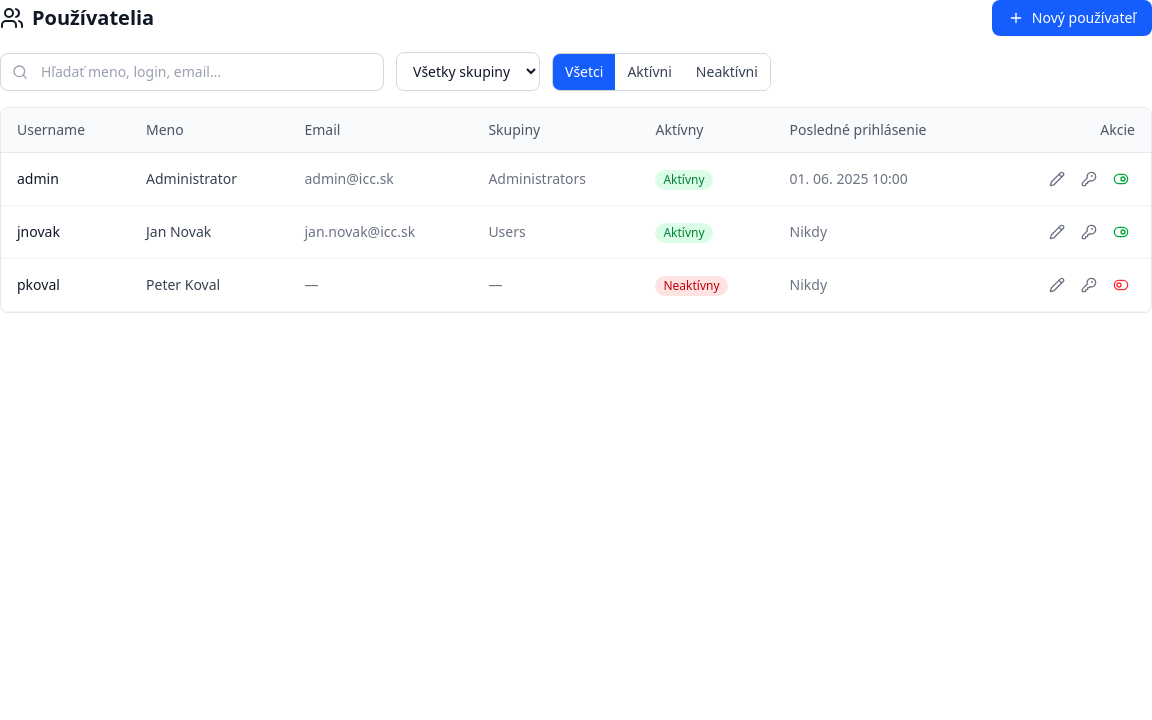
Test: UserListView › opens create dialog on "Nový používateľ" click
Expected: the element with test id "user-table" is shown, [0,107,1151,313]
Step 1. Click the button "Nový používateľ" → [1072, 18], box [992,0,1151,36]
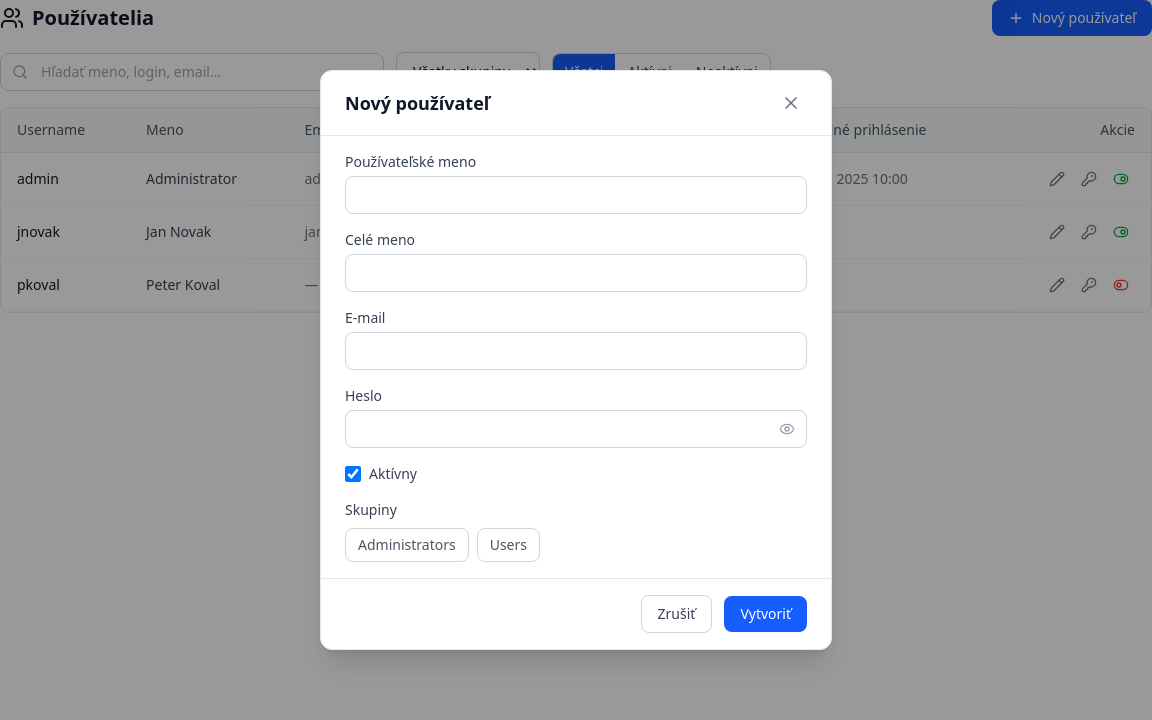
Expected: the text "Používateľské meno" is shown, [345,152,476,171]
Expected: the text "Celé meno" is shown, [345,230,415,249]
